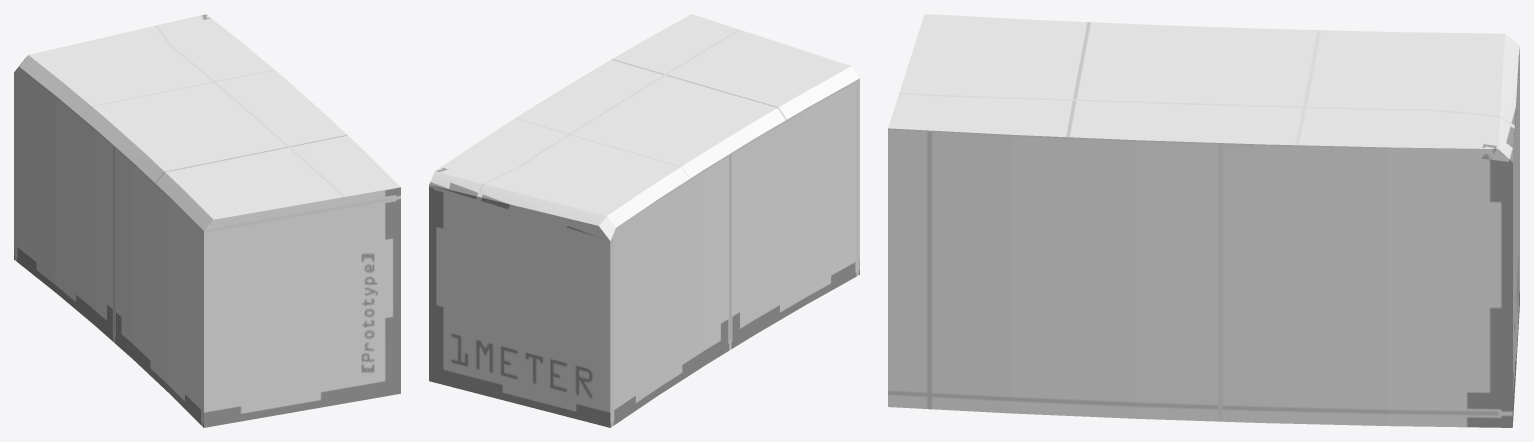
Rendered from Platform_Waterfall_Arch01.fbx.
The picture shows the model from 3 angles, left to right: view 1: azimuth 30°, elevation 25°; view 2: azimuth 150°, elevation 25°; view 3: azimuth 270°, elevation 25°; orthographic projection. The views are drawn at different scales.
Visible parts, largest first — view 1: Platform_Waterfall_Arch01; view 2: Platform_Waterfall_Arch01; view 3: Platform_Waterfall_Arch01.
Boxes of the visible parts, box(x1,y1,x2,y2) form: Platform_Waterfall_Arch01: box(14, 14, 400, 427); Platform_Waterfall_Arch01: box(429, 14, 859, 427); Platform_Waterfall_Arch01: box(888, 14, 1519, 427).
Size of the model in its own units: 23.27 by 21.4 by 43.97.
Materials: 1 (1 with a texture image).
